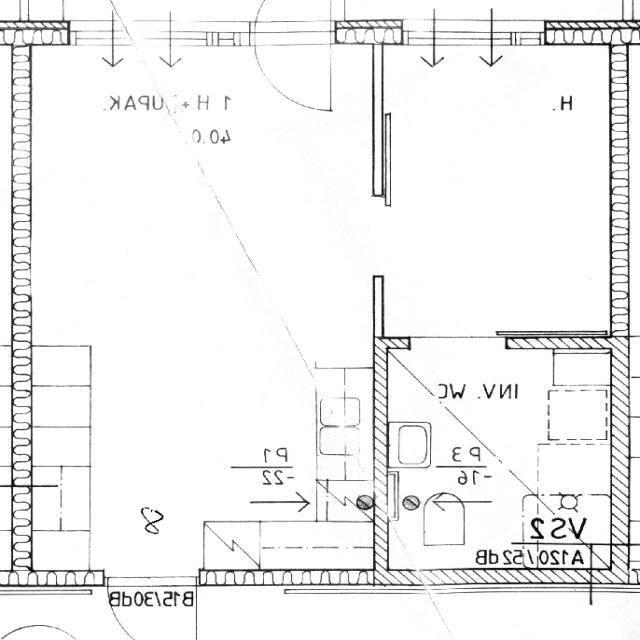door: (256, 20, 331, 108), (256, 0, 331, 45)
